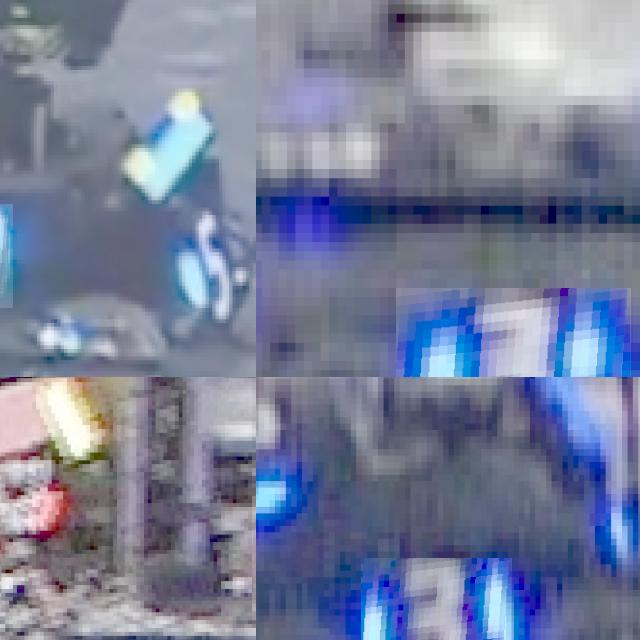B3: (396, 287, 632, 377), (361, 557, 513, 640)
R2: (0, 441, 76, 554)
